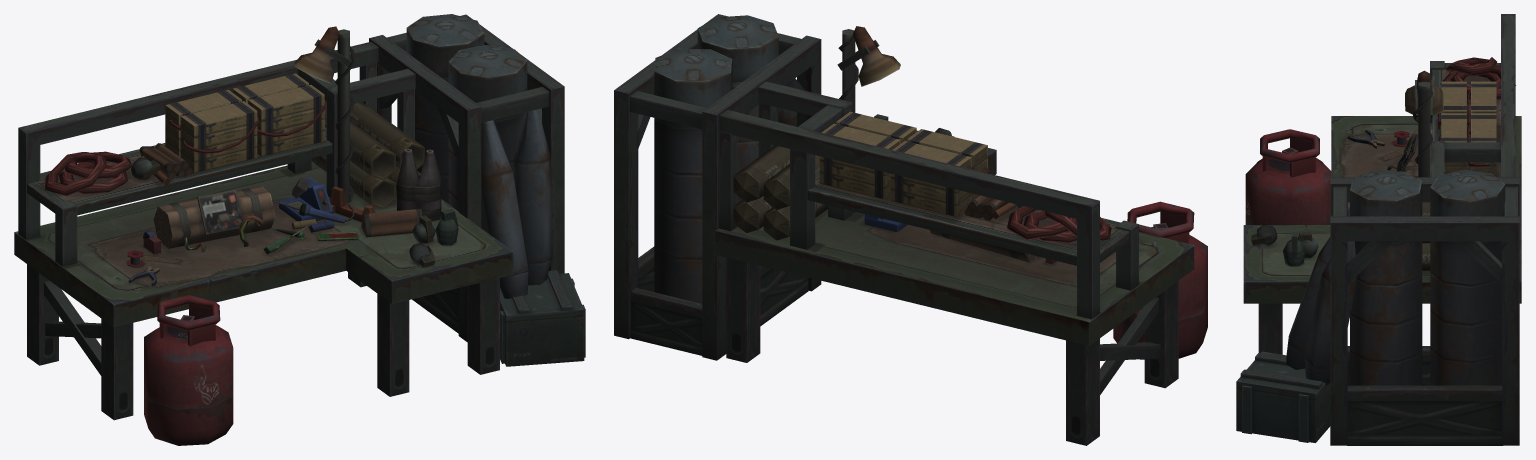
Rendered from ExplosiveWorkstation.FBX.
3 views of the same model, side by side, from view 1: azimuth 30°, elevation 25°; view 2: azimuth 150°, elevation 25°; view 3: azimuth 270°, elevation 25° (orthographic). The views are drawn at different scales.
Parts seen in each view (by area): view 1: ExplosiveWorkstation; view 2: ExplosiveWorkstation; view 3: ExplosiveWorkstation.
Boxes of the visible parts, x1,y1,x2,y2 form: ExplosiveWorkstation: [14, 14, 585, 445]; ExplosiveWorkstation: [614, 14, 1207, 445]; ExplosiveWorkstation: [1236, 14, 1521, 445].
Bounding box in the file's own units: 3.06 × 1.95 × 1.75.
1 material, 1 textured.
